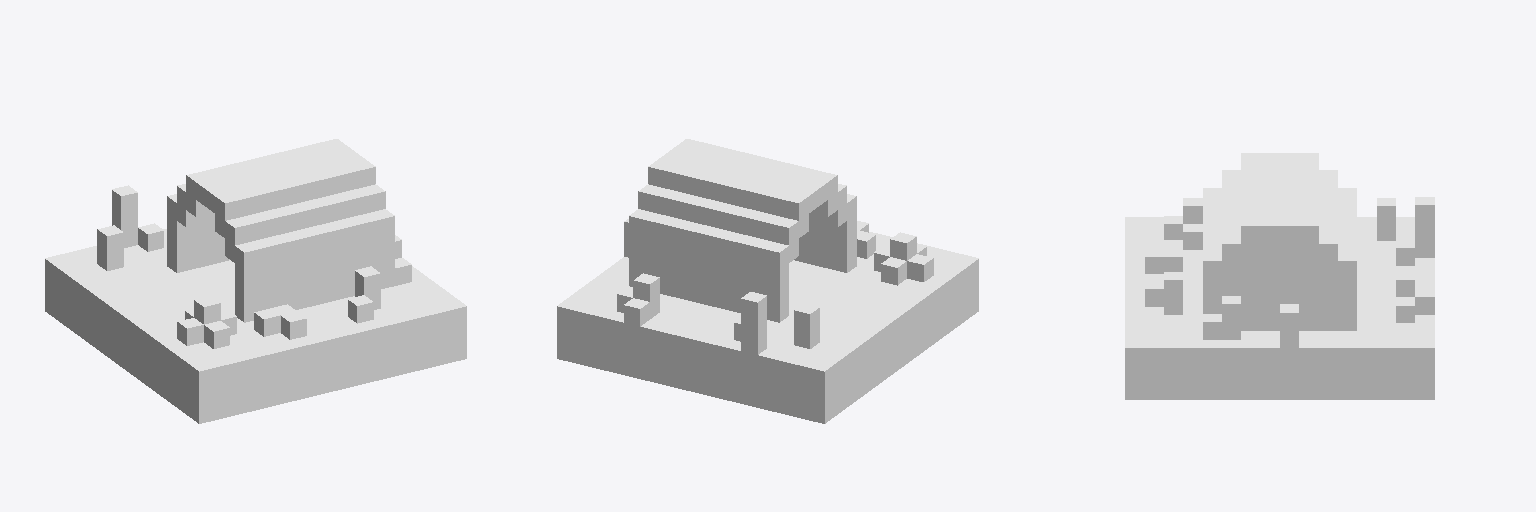
The model's file is TrainShed.obj.
3 renders of one model, left to right at view 1: azimuth 30°, elevation 25°; view 2: azimuth 150°, elevation 25°; view 3: azimuth 270°, elevation 25°, orthographic.
Visible parts, largest first — view 1: CaveShed; view 2: CaveShed; view 3: CaveShed.
Part boxes in pixels (left/top/right/bottom): CaveShed: left=45, top=139, right=466, bottom=423; CaveShed: left=557, top=139, right=978, bottom=423; CaveShed: left=1125, top=153, right=1434, bottom=399.
Bounding box in the file's own units: 16 × 9 × 16.